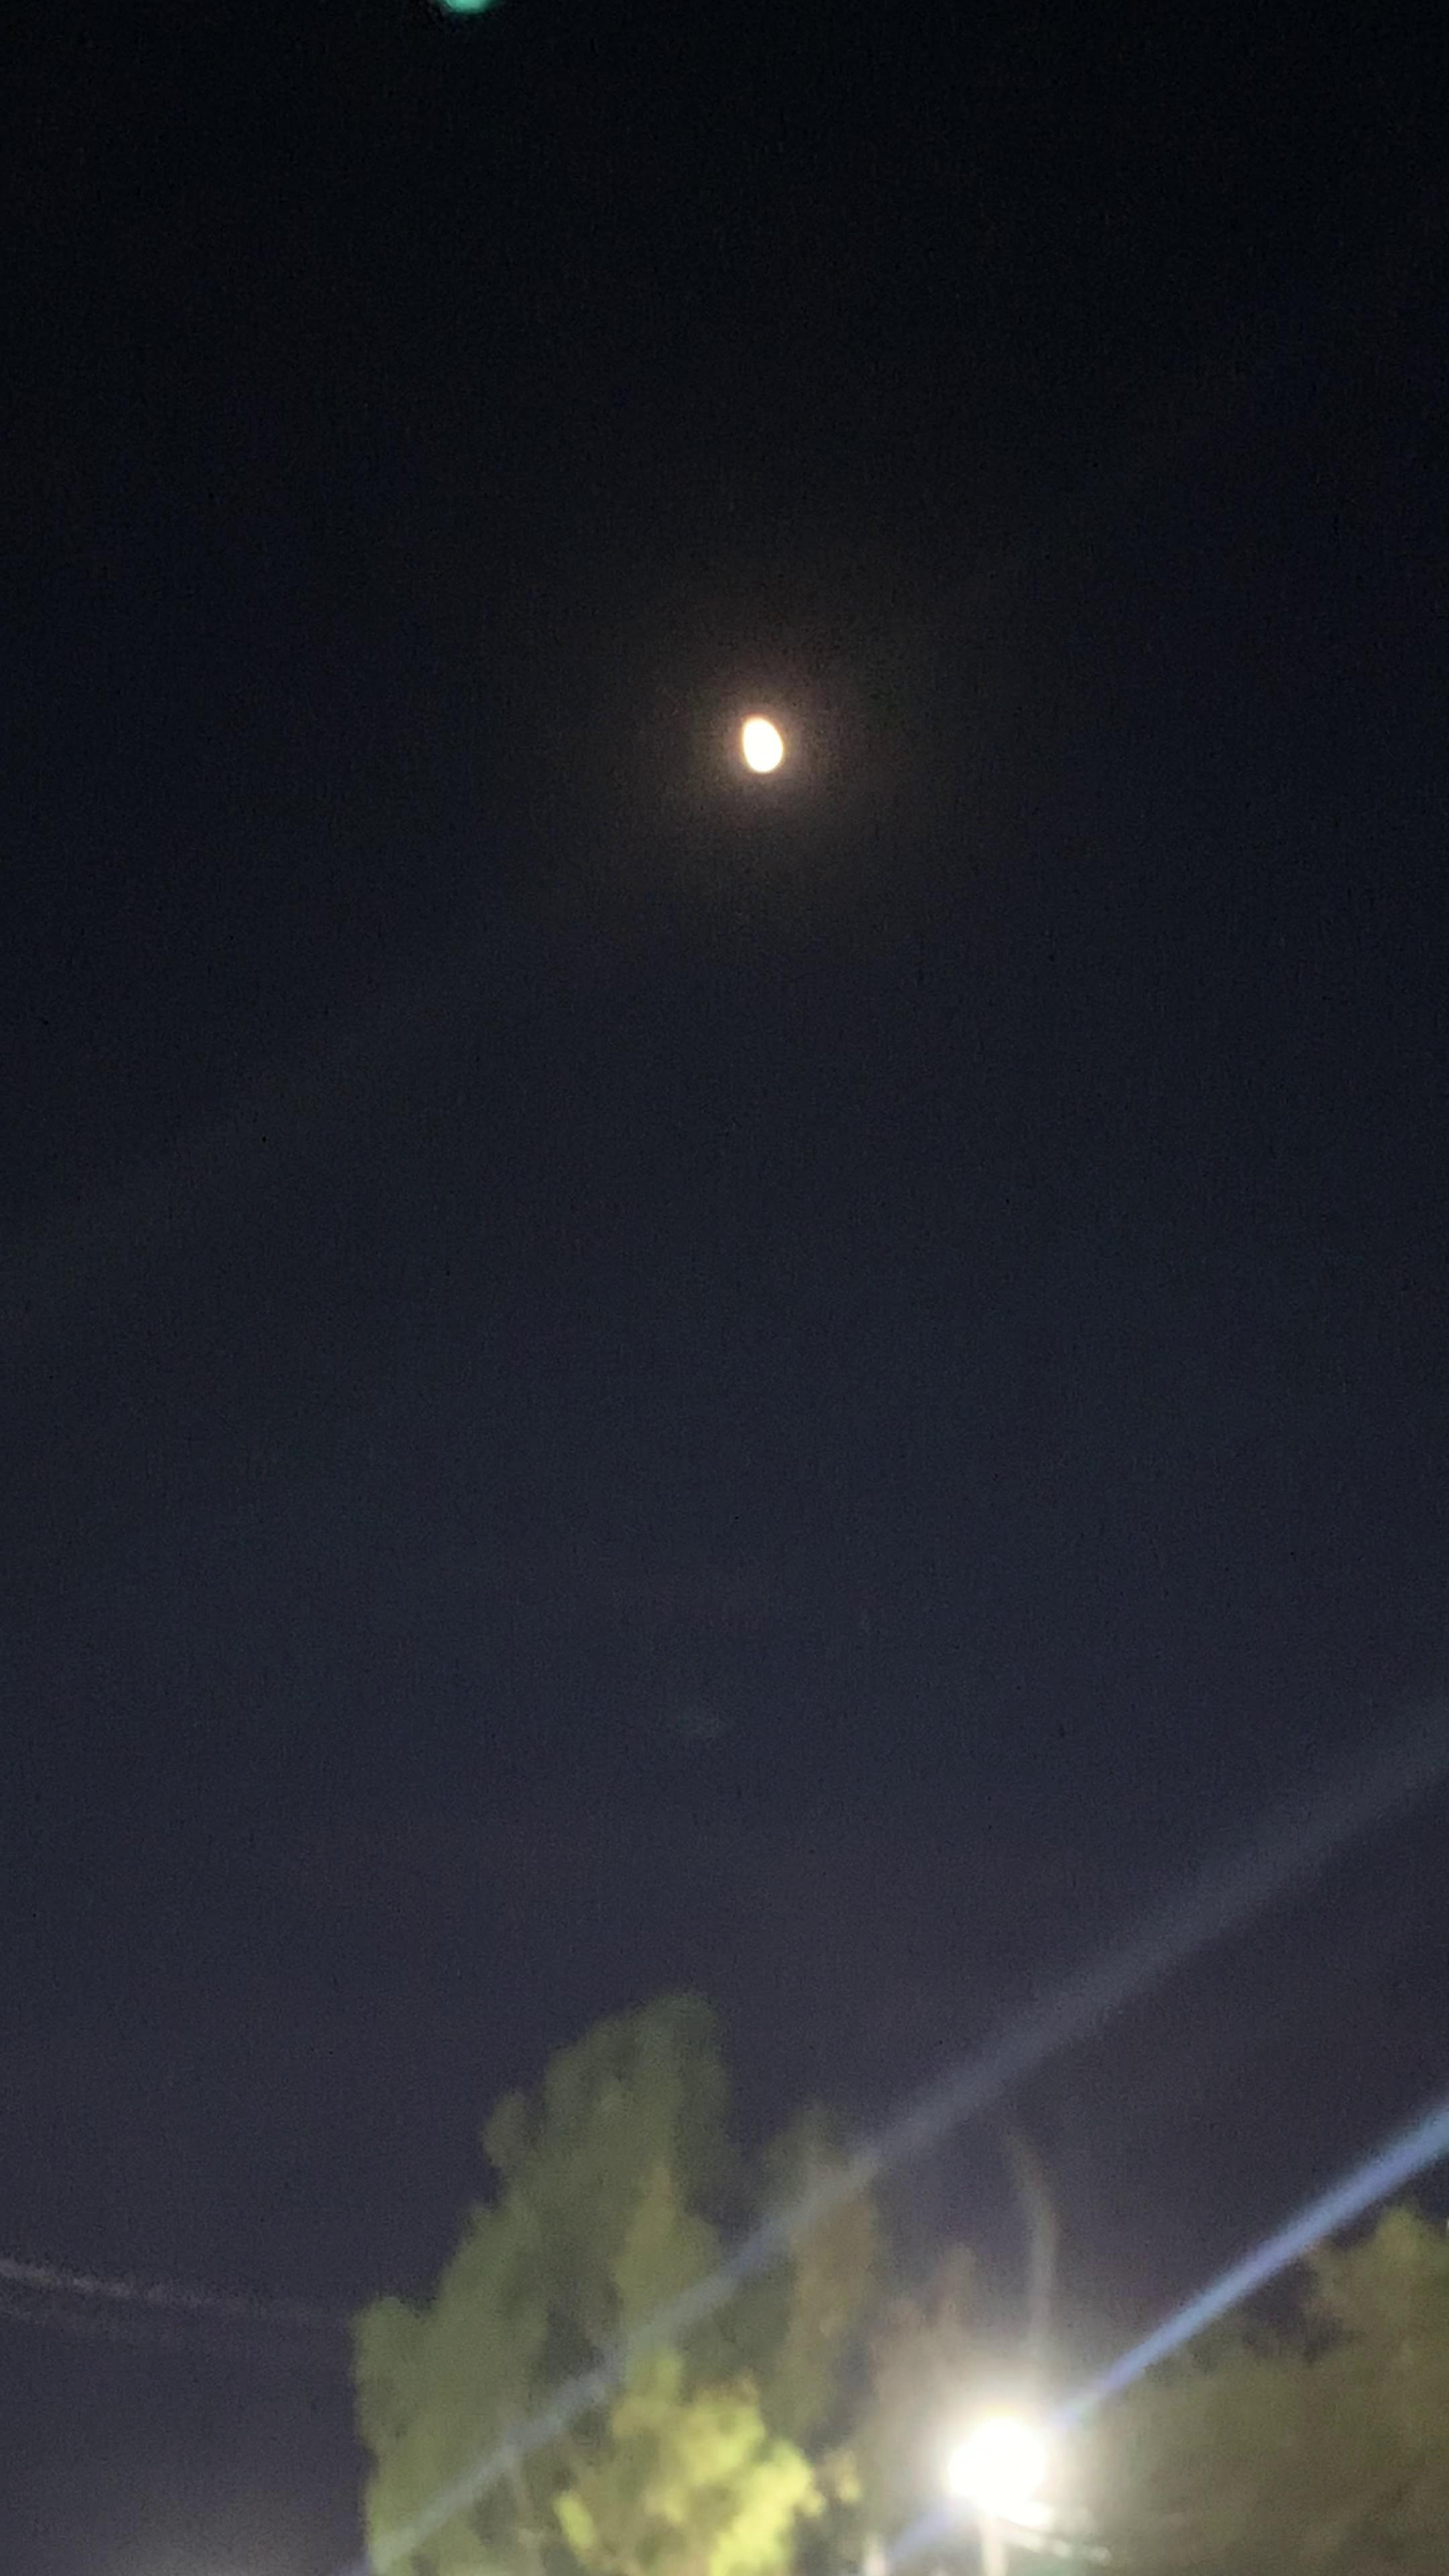moon: (708, 702, 835, 814)
